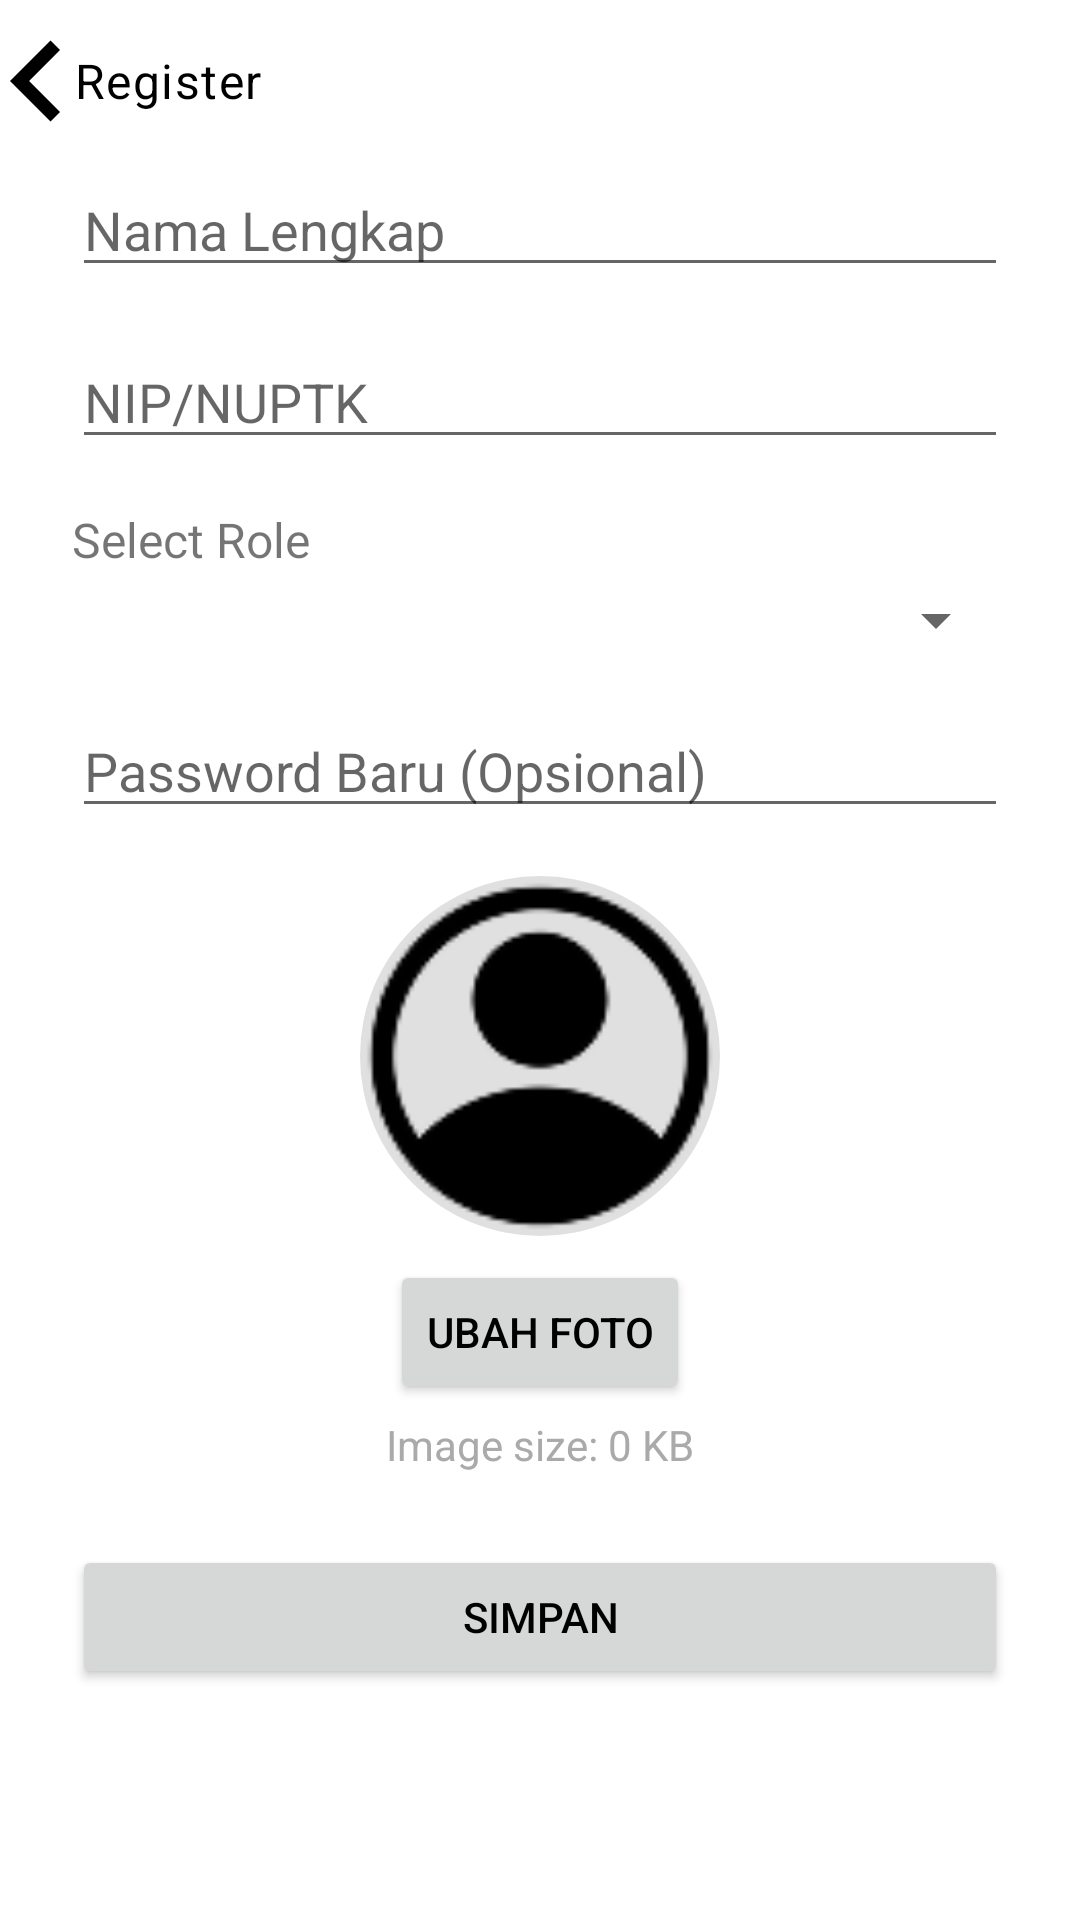

Icon bounding boxes for this 1080 × 1920 phone screenshot, format (x1, y1, x2, y2):
account: (360, 876, 720, 1236)
